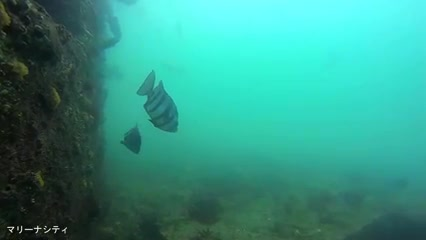ishidai: (137, 73, 184, 139)
